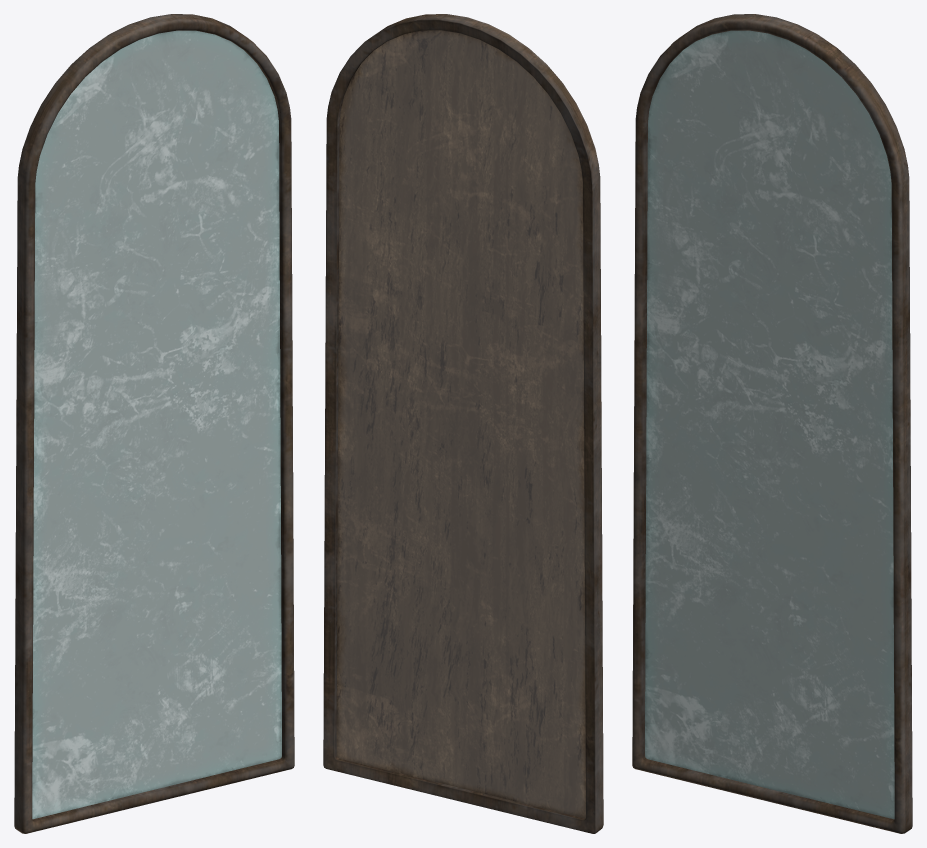
The model's file is mirror_b.glb.
3 views of the same model, side by side, from view 1: azimuth 30°, elevation 25°; view 2: azimuth 150°, elevation 25°; view 3: azimuth 330°, elevation 25° (orthographic).
Parts seen in each view (by area): view 1: mirrorBMirror, mirrorBFrame; view 2: mirrorBMirrorBack, mirrorBFrame; view 3: mirrorBMirror, mirrorBFrame.
Part boxes in pixels (<box>): mirrorBMirror: <box>32,30,281,819</box>; mirrorBFrame: <box>14,14,294,833</box>; mirrorBMirrorBack: <box>336,30,585,818</box>; mirrorBFrame: <box>323,14,603,833</box>; mirrorBMirror: <box>645,30,894,819</box>; mirrorBFrame: <box>632,14,912,833</box>.
Bounding box in the file's own units: 0.63 × 1.72 × 0.0378.
1 material, 1 textured.
